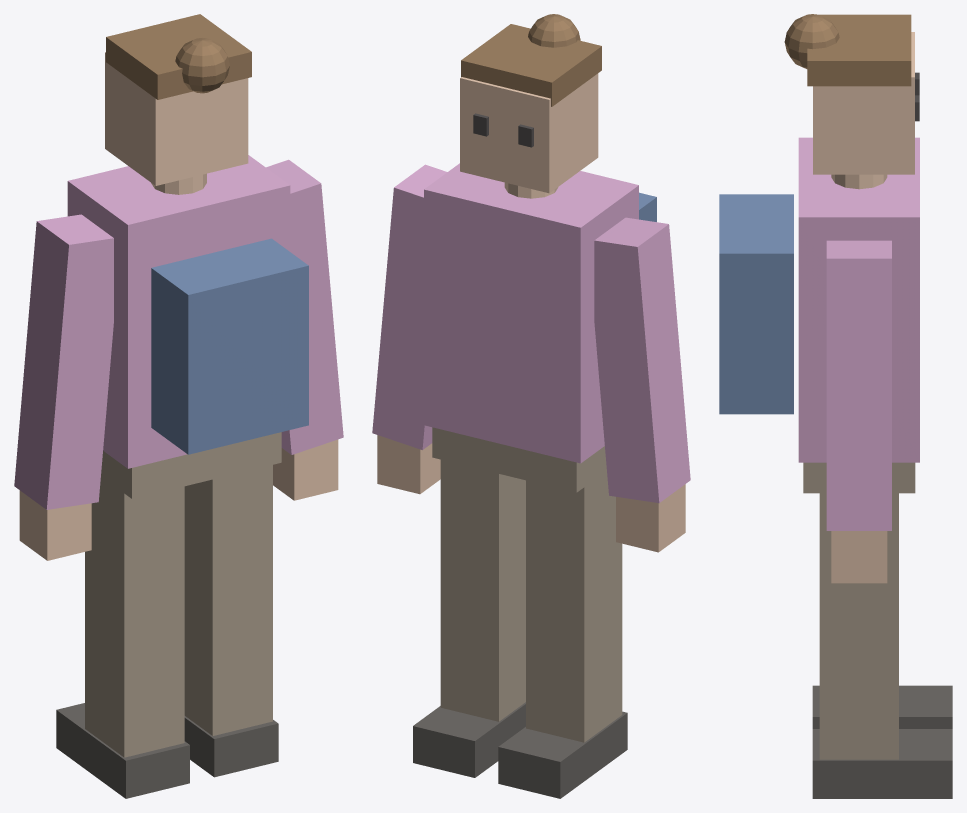
File: civ_10.glb
The picture shows the model from 3 angles, left to right: view 1: azimuth 30°, elevation 25°; view 2: azimuth 150°, elevation 25°; view 3: azimuth 270°, elevation 25°; orthographic projection. The views are drawn at different scales.
Visible parts, largest first — view 1: civ_10_pack, civ_10_leg_L, civ_10_torso, civ_10_arm_L, civ_10_leg_R, civ_10_head, civ_10_arm_R, civ_10_hair, civ_10_shoe_L, civ_10_pelvis, civ_10_shoe_R, civ_10_hand_L (+3 smaller); view 2: civ_10_torso, civ_10_leg_L, civ_10_arm_L, civ_10_leg_R, civ_10_head, civ_10_arm_R, civ_10_hair, civ_10_shoe_L, civ_10_shoe_R, civ_10_pelvis, civ_10_hand_L, civ_10_hand_R (+1 smaller); view 3: civ_10_torso, civ_10_arm_R, civ_10_pack, civ_10_leg_R, civ_10_head, civ_10_shoe_R, civ_10_hair, civ_10_hand_R, civ_10_shoe_L, civ_10_bun, civ_10_pelvis, civ_10_neck.
Boxes of the visible parts, x1,y1,x2,y2 form: civ_10_pack: (151,238,308,454); civ_10_leg_L: (85,476,184,757); civ_10_torso: (67,155,290,468); civ_10_arm_L: (14,214,113,509); civ_10_leg_R: (184,465,272,735); civ_10_head: (105,52,248,185); civ_10_arm_R: (266,159,343,454); civ_10_hair: (106,14,251,99); civ_10_shoe_L: (56,703,189,798); civ_10_pelvis: (101,432,281,498); civ_10_shoe_R: (184,716,278,777); civ_10_hand_L: (19,490,91,560); civ_10_torso: (424,163,638,463); civ_10_leg_L: (526,471,622,742); civ_10_arm_L: (594,217,690,502); civ_10_leg_R: (440,459,525,721); civ_10_head: (460,73,598,193); civ_10_arm_R: (372,164,447,449); civ_10_hair: (461,24,601,106); civ_10_shoe_L: (498,711,627,798); civ_10_shoe_R: (413,702,525,777); civ_10_pelvis: (432,427,606,492); civ_10_hand_L: (616,484,685,552); civ_10_hand_R: (377,435,440,494); civ_10_torso: (798,137,919,462); civ_10_arm_R: (826,240,891,530); civ_10_pack: (719,194,793,414); civ_10_leg_R: (819,493,898,759); civ_10_head: (813,32,914,174); civ_10_shoe_R: (812,729,952,798); civ_10_hair: (807,14,911,86); civ_10_hand_R: (831,531,887,583); civ_10_shoe_L: (812,685,952,728); civ_10_bun: (784,14,839,68); civ_10_pelvis: (803,462,915,493); civ_10_neck: (831,174,887,189).
Size of the model in its own units: 0.7318 by 1.74 by 0.495.
